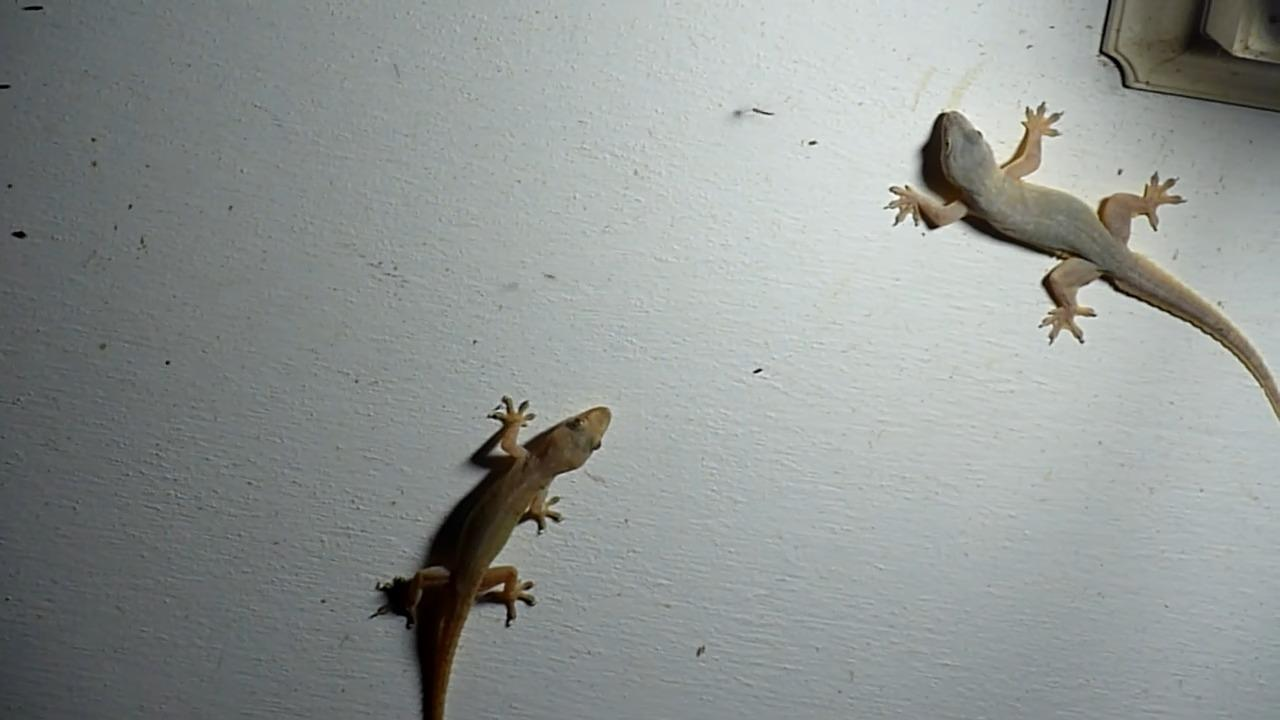lizard: (877, 85, 1280, 431), (350, 364, 661, 720)
